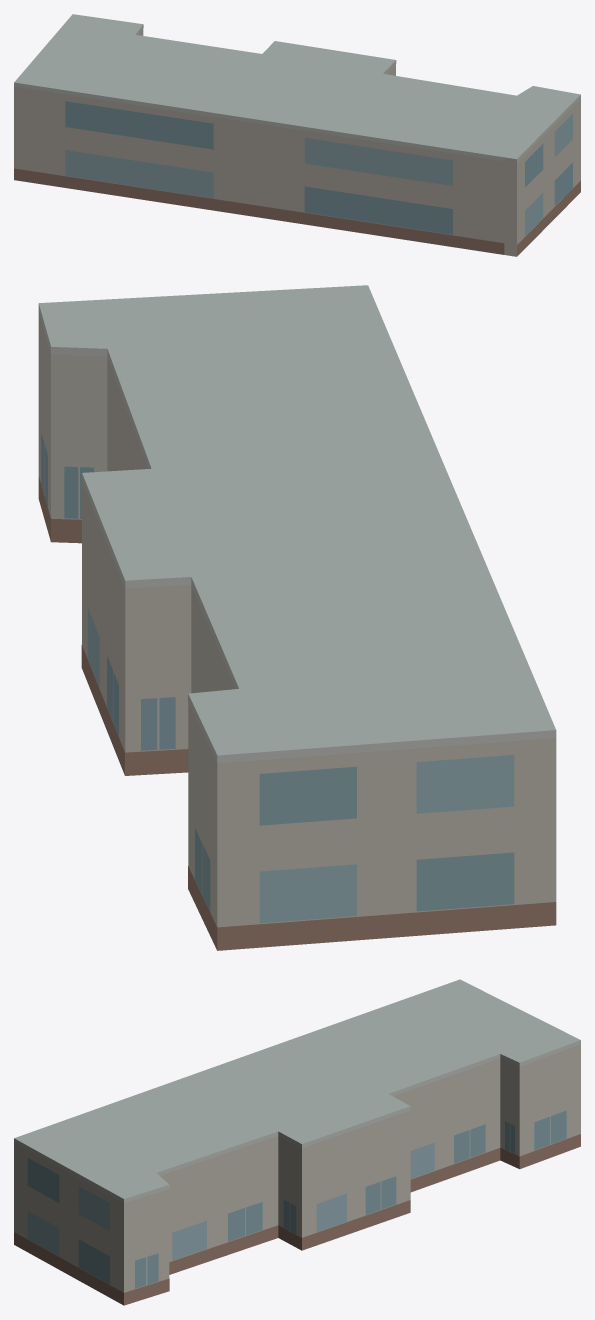
The model's file is survey-upis-32711404.glb.
3 renders of one model, top to bottom at view 1: azimuth 30°, elevation 25°; view 2: azimuth 150°, elevation 25°; view 3: azimuth 270°, elevation 25°, orthographic. The views are drawn at different scales.
Visible parts, largest first — view 1: survey-upis-32711404.tmp; view 2: survey-upis-32711404.tmp; view 3: survey-upis-32711404.tmp.
Boxes of the visible parts, x1,y1,x2,y2 form: survey-upis-32711404.tmp: (14,14,580,256); survey-upis-32711404.tmp: (38,285,556,950); survey-upis-32711404.tmp: (14,979,580,1305).
Bounding box in the file's own units: 27 × 6.1 × 29.43.
